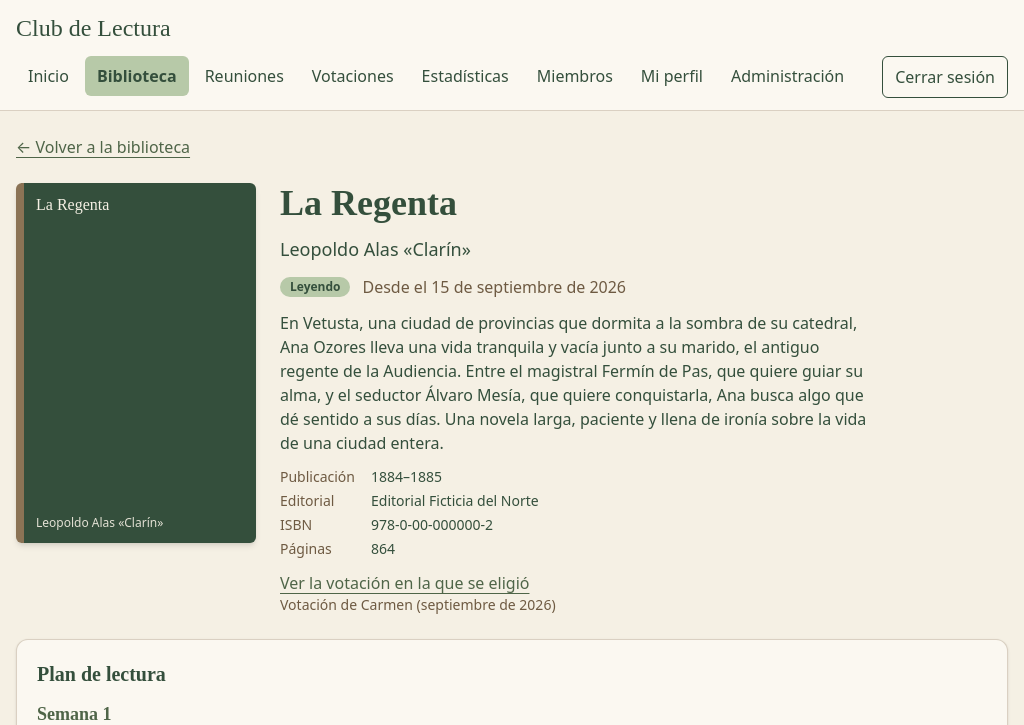
Test: Book page › opens the vote page from the vote link
Expected: the link "← Volver a la biblioteca" is shown, [16, 136, 190, 158]
Click the link "Ver la votación en la que se eligió" at (405,583), box [280, 572, 530, 594]
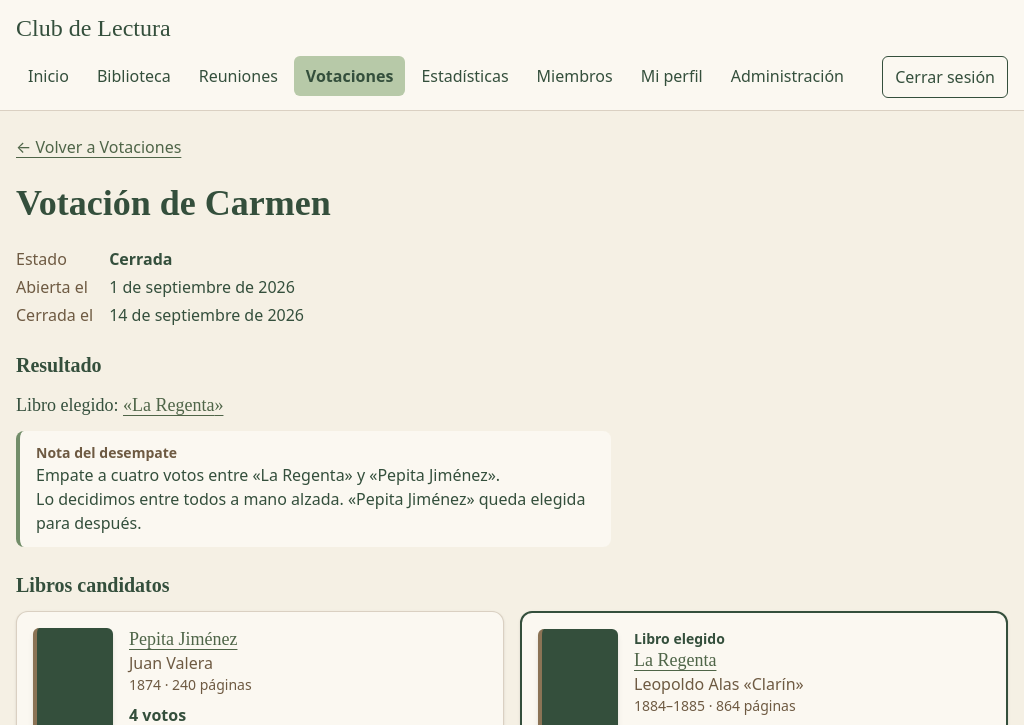
Expected: the heading "Votación de Carmen" is shown, [16, 183, 331, 223]
